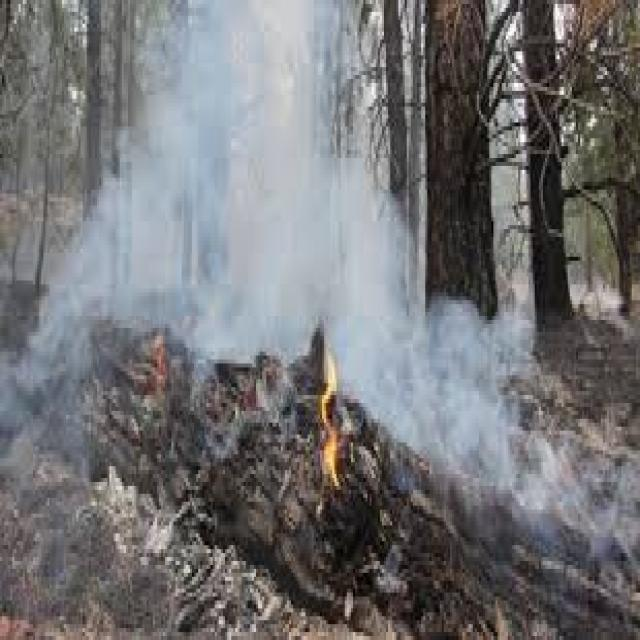Fire: (304, 348, 358, 500)
Smoke: (84, 0, 305, 367), (132, 0, 343, 332), (331, 299, 528, 506), (306, 138, 426, 457), (0, 188, 116, 464)
